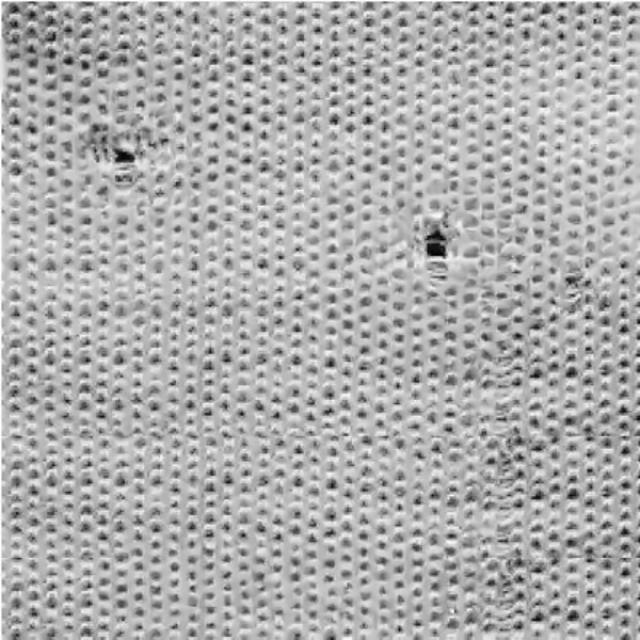seam: (76, 126, 152, 182), (409, 210, 461, 276)
